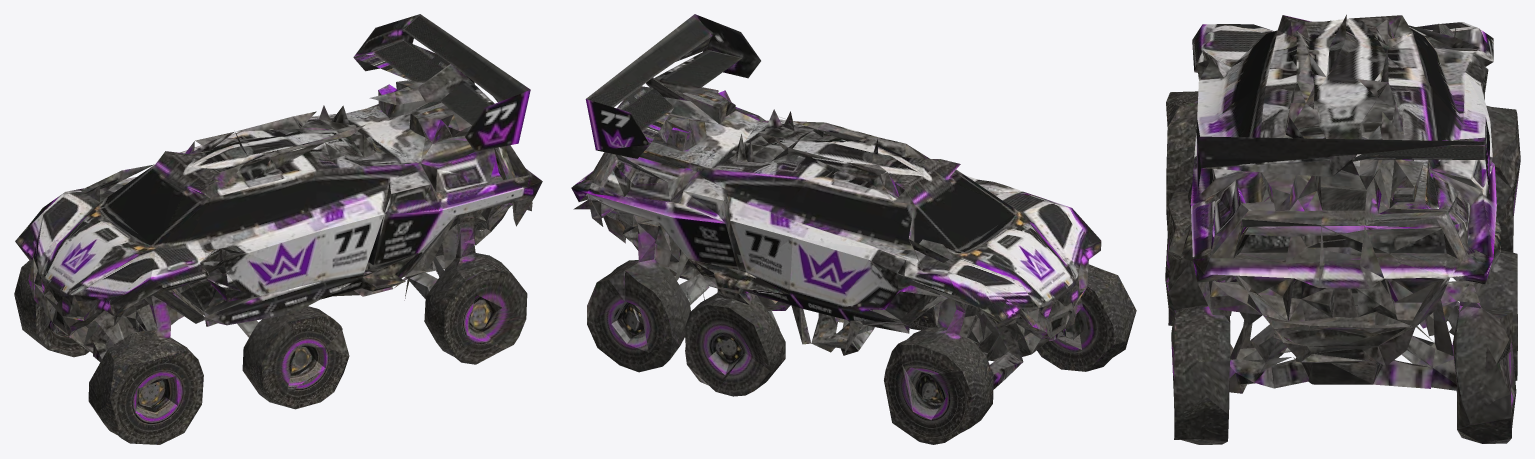
Rendered from rover-apex-r.glb.
3 renders of one model, left to right at view 1: azimuth 30°, elevation 25°; view 2: azimuth 150°, elevation 25°; view 3: azimuth 270°, elevation 25°, orthographic. The views are drawn at different scales.
Parts seen in each view (by area): view 1: output_unwrapped; view 2: output_unwrapped; view 3: output_unwrapped.
Boxes of the visible parts, x1,y1,x2,y2 form: output_unwrapped: (14, 14, 542, 444); output_unwrapped: (571, 14, 1136, 444); output_unwrapped: (1165, 14, 1520, 444).
Bounding box in the file's own units: 1.89 × 1.03 × 0.9788.
1 material, 1 textured.
